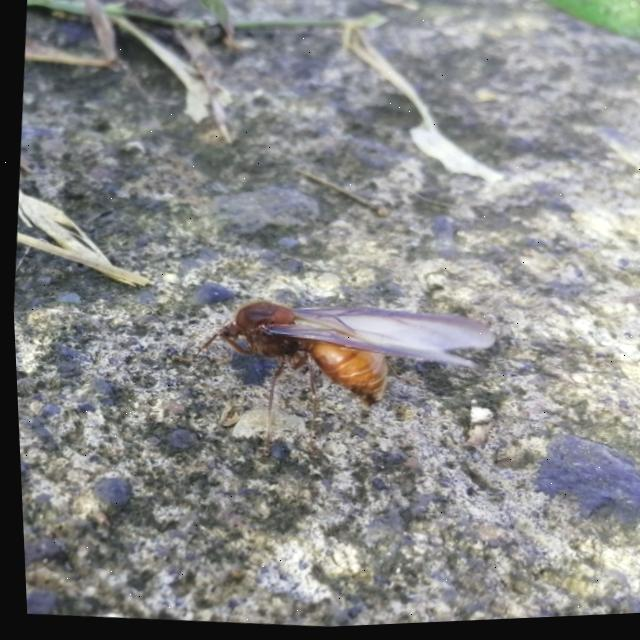Alive-Male-Alate: (180, 287, 499, 481)
